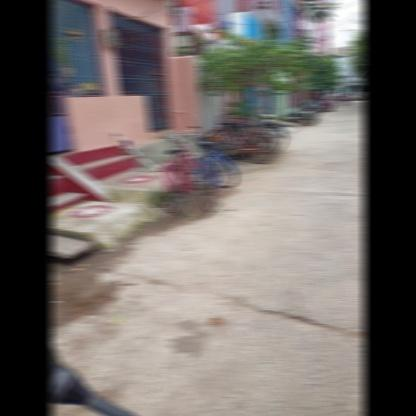Bicycle: (218, 109, 296, 157), (193, 135, 246, 193), (158, 130, 195, 201)
